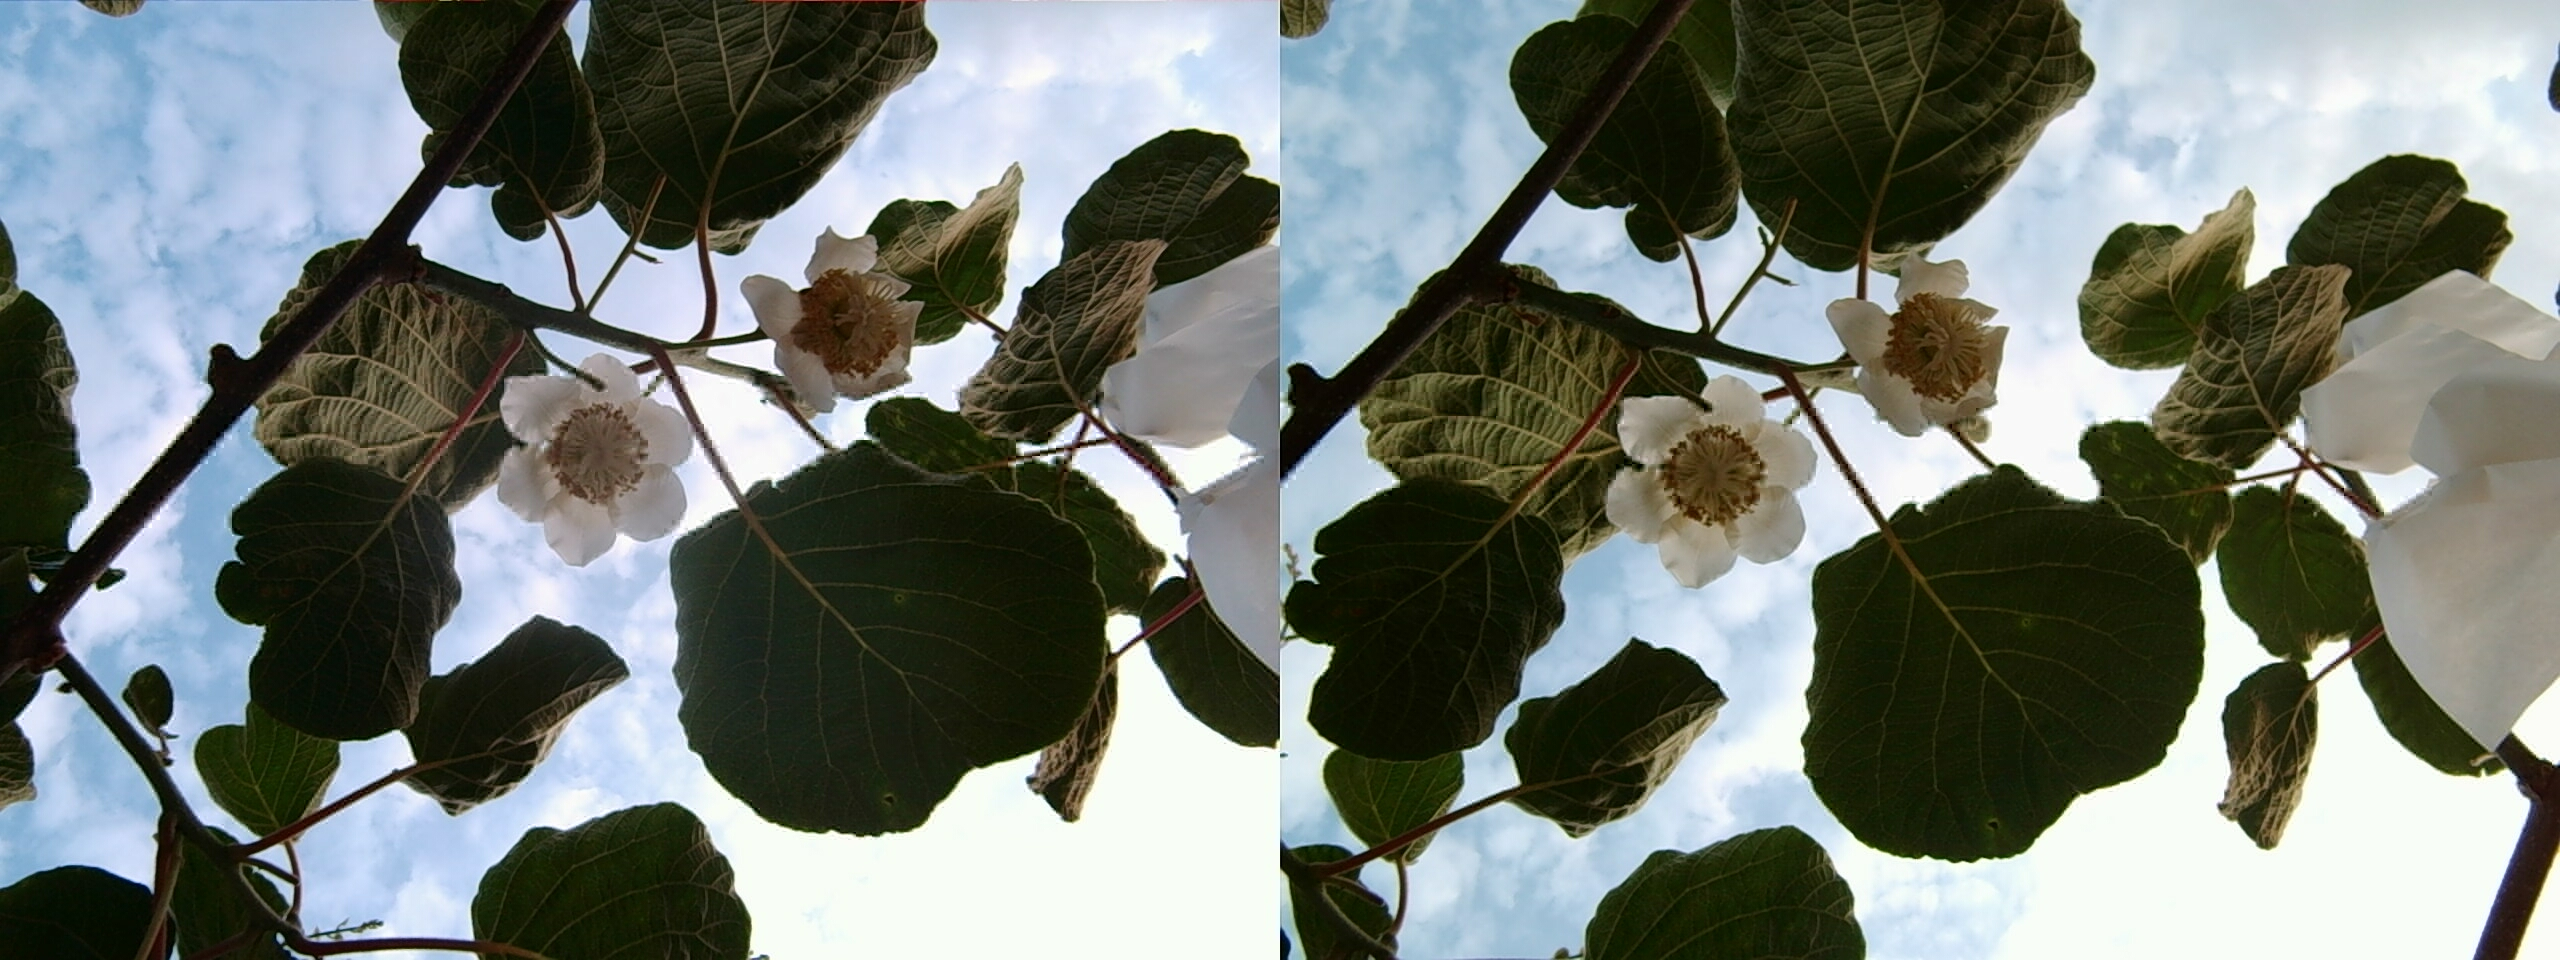flower: (1593, 372, 1816, 583), (487, 340, 692, 558), (1820, 255, 2011, 433), (741, 233, 936, 407)
